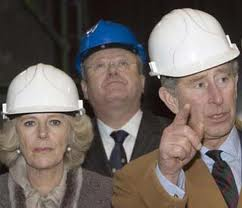casco: (147, 6, 241, 79), (1, 62, 86, 119), (74, 18, 147, 73)
